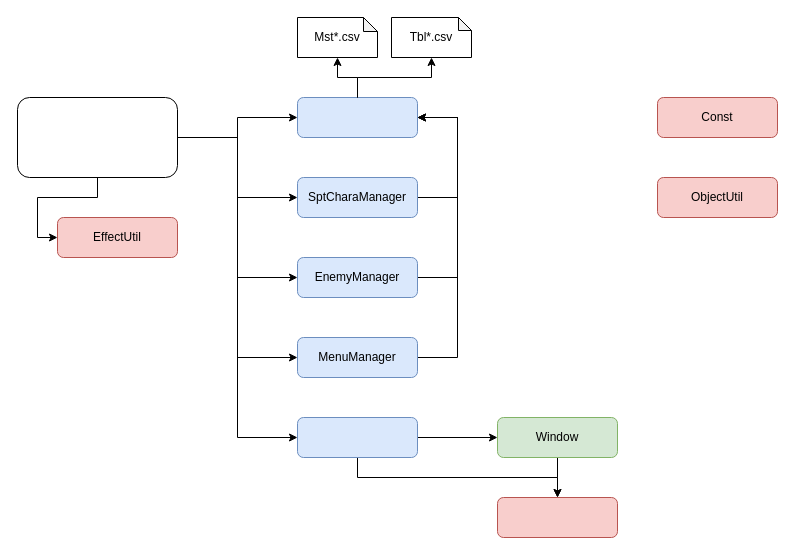
Some shapes in this 795 by 555 pixel diagram are drawn without their labels. The centre of each missing label's shape, as x and y in pixels:
"DBManager" belongs at [357,117].
"DispManager" belongs at [357,437].
"GraphicUtil" belongs at [557,517].
"Scene" belongs at [97,137].
